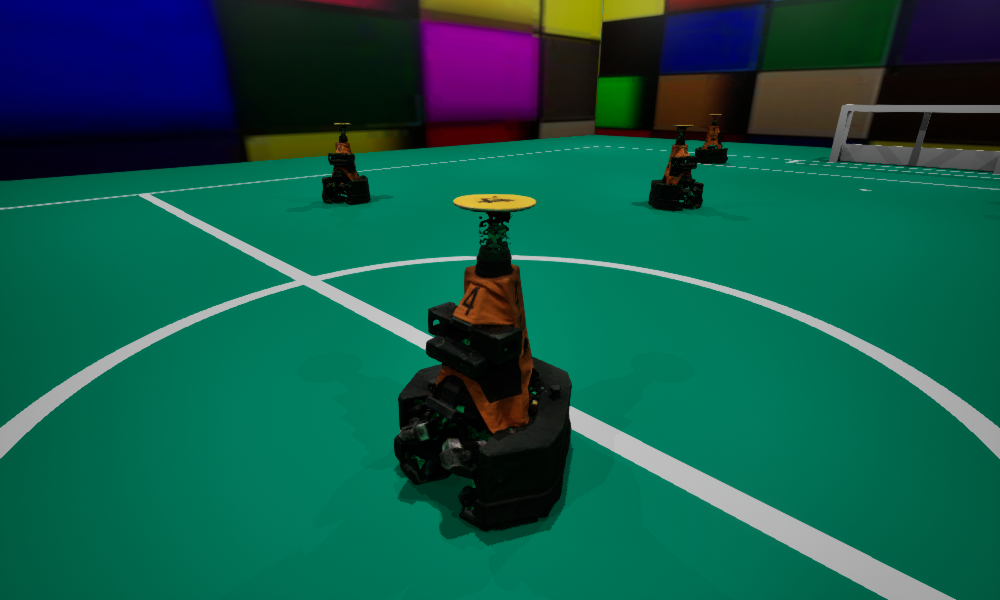o: (394, 194, 571, 530), (648, 125, 703, 210), (322, 123, 370, 203), (695, 114, 727, 163)
